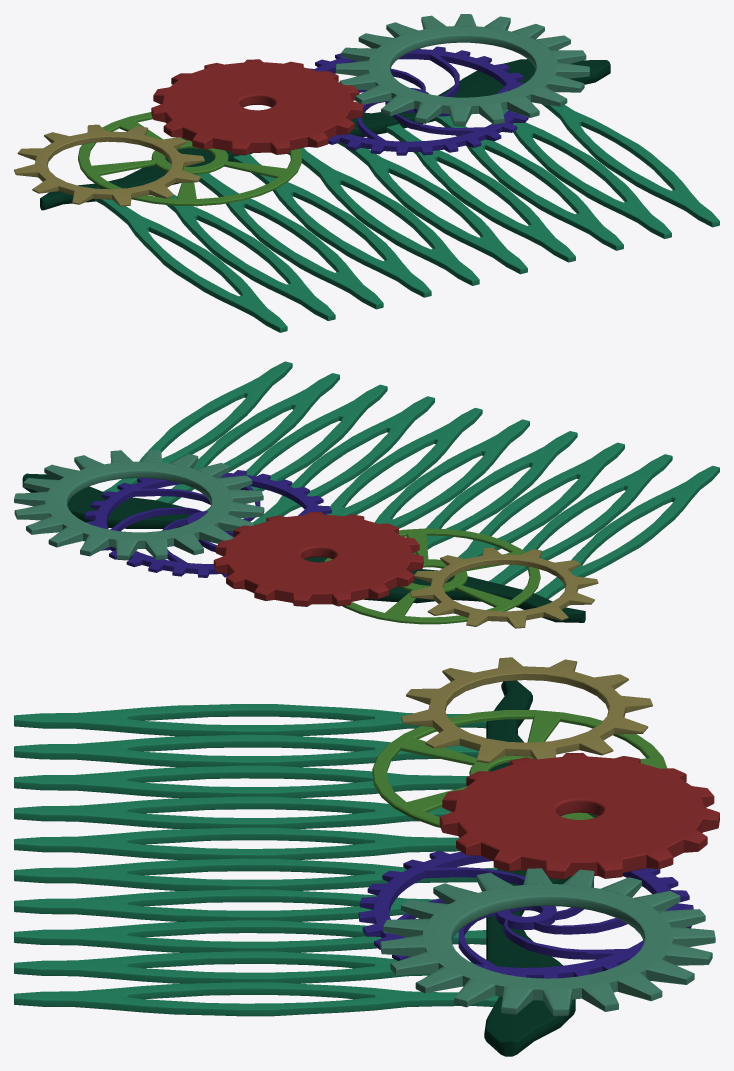
File: HairComb.obj
3 views of the same model, one above another, from view 1: azimuth 30°, elevation 25°; view 2: azimuth 150°, elevation 25°; view 3: azimuth 270°, elevation 25° (orthographic). The views are drawn at different scales.
Visible parts, largest first — view 1: pPipe3, pPipe1, pPipe5, pPipe4, pPipe6, pCube12, pCube11, pCube7, pCube6, pCube9, pCube8, pCube5 (+4 smaller); view 2: pPipe3, pPipe1, pPipe5, pPipe4, pCube12, pPipe6, pCube11, pCube10, pCube5, pCube6, pCube7, pCube9 (+4 smaller); view 3: pPipe3, pPipe1, pPipe5, pCube2, pCube7, pPipe4, pCube9, pCube11, pCube8, pCube6, pCube10, pCube3 (+4 smaller).
Part boxes in pixels (x1,y1,x2,y2): pPipe3: [151, 59, 363, 155]; pPipe1: [336, 14, 589, 126]; pPipe5: [308, 46, 528, 155]; pPipe4: [14, 124, 204, 206]; pPipe6: [78, 112, 301, 206]; pCube12: [40, 59, 610, 210]; pCube11: [95, 199, 287, 332]; pCube7: [288, 148, 479, 285]; pCube6: [338, 143, 527, 274]; pCube9: [196, 173, 383, 309]; pCube8: [233, 153, 431, 297]; pCube5: [386, 124, 575, 262]; pPipe3: [213, 512, 423, 606]; pPipe1: [14, 450, 264, 560]; pPipe5: [84, 470, 331, 577]; pPipe4: [410, 547, 598, 628]; pCube12: [22, 473, 585, 622]; pPipe6: [324, 528, 540, 624]; pCube11: [535, 465, 719, 599]; pCube10: [489, 454, 672, 585]; pCube5: [252, 396, 434, 524]; pCube6: [326, 408, 482, 515]; pCube7: [374, 419, 529, 528]; pCube9: [458, 442, 624, 558]; pPipe3: [439, 752, 719, 879]; pPipe1: [380, 868, 715, 1016]; pPipe5: [358, 850, 693, 978]; pCube2: [14, 982, 498, 1016]; pCube7: [14, 827, 459, 859]; pPipe4: [401, 657, 652, 763]; pCube9: [14, 765, 468, 798]; pCube11: [14, 704, 486, 736]; pCube8: [14, 796, 451, 828]; pCube6: [14, 858, 497, 890]; pCube10: [14, 734, 478, 767]; pCube3: [14, 951, 472, 983].
Bounding box in the file's own units: 10.64 × 0.5262 × 8.59.
